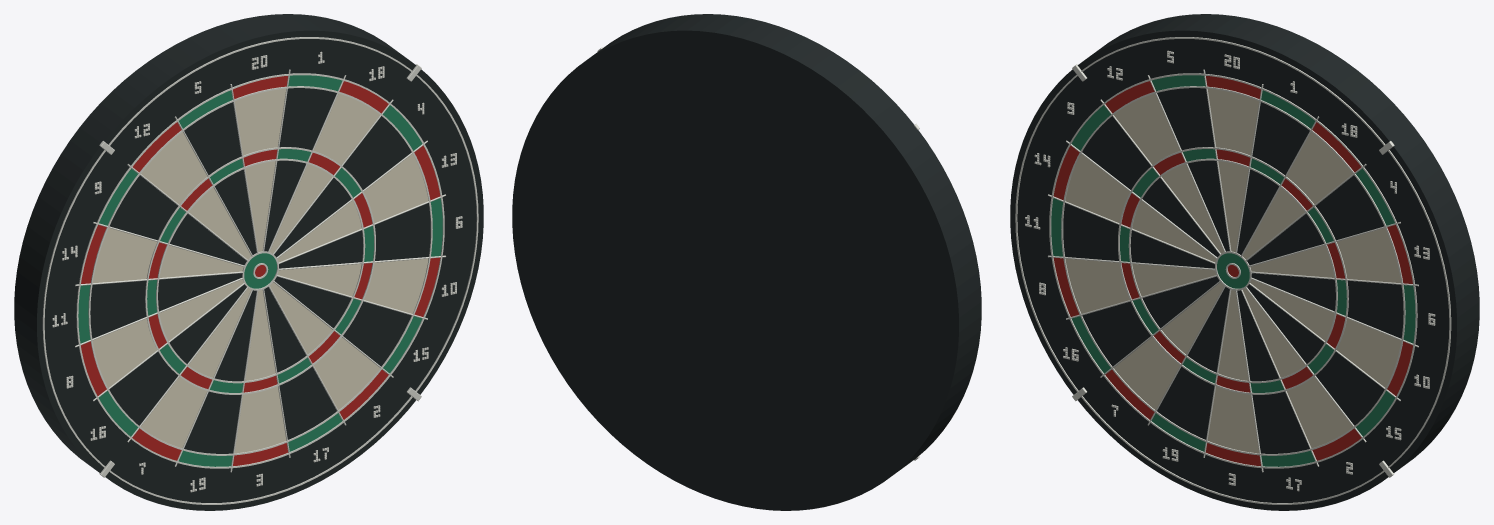
The model's file is full.glb.
3 views of the same model, side by side, from view 1: azimuth 30°, elevation 25°; view 2: azimuth 150°, elevation 25°; view 3: azimuth 330°, elevation 25° (orthographic).
Visible parts, largest first — view 1: Continuous scoring face and solid backing, Concentric wire 0.199, Concentric wire 0.168, Concentric wire 0.157, Concentric wire 0.105, Concentric wire 0.095; view 2: Continuous scoring face and solid backing; view 3: Continuous scoring face and solid backing, Concentric wire 0.199, Concentric wire 0.168, Concentric wire 0.157, Concentric wire 0.105, Concentric wire 0.095.
Part boxes in pixels (x1,y1,x2,y2): Continuous scoring face and solid backing: (14, 14, 483, 510); Concentric wire 0.199: (42, 37, 478, 504); Concentric wire 0.168: (76, 73, 444, 468); Concentric wire 0.157: (88, 86, 432, 455); Concentric wire 0.105: (145, 147, 375, 394); Concentric wire 0.095: (156, 158, 365, 383); Continuous scoring face and solid backing: (512, 14, 981, 510); Continuous scoring face and solid backing: (1010, 14, 1479, 510); Concentric wire 0.199: (1015, 37, 1451, 504); Concentric wire 0.168: (1049, 73, 1417, 468); Concentric wire 0.157: (1061, 86, 1405, 455); Concentric wire 0.105: (1118, 147, 1348, 394); Concentric wire 0.095: (1128, 158, 1337, 383).
Size of the model in its own units: 0.4098 by 0.4098 by 0.038.
